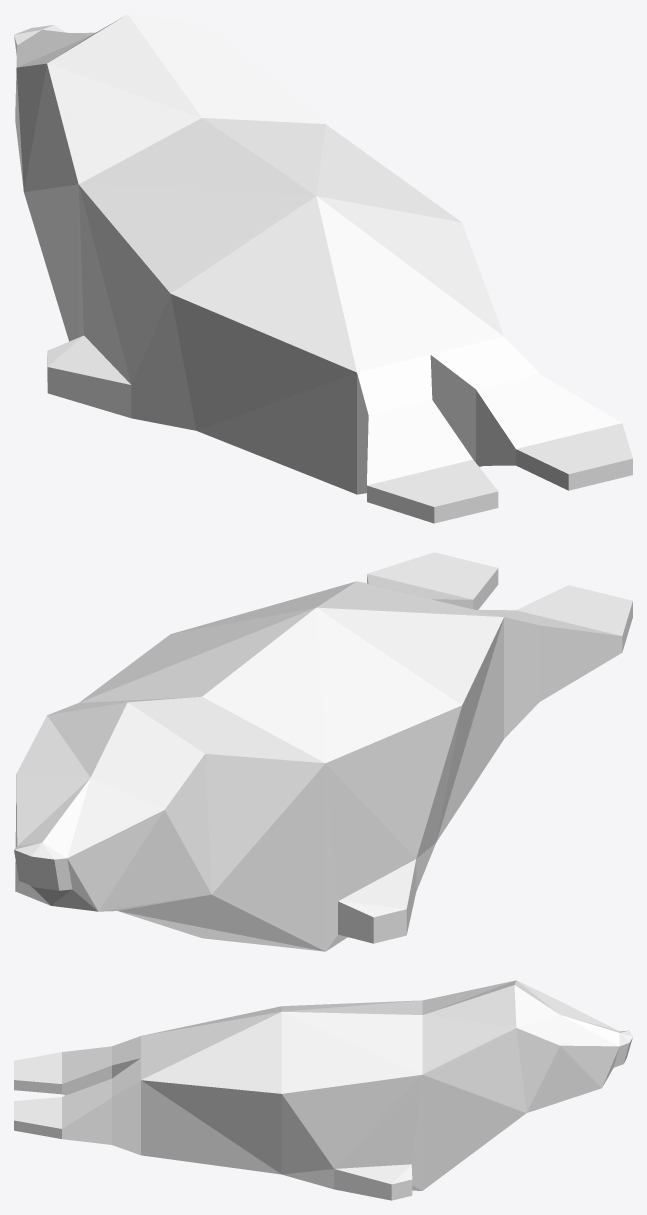
Rendered from Azarasi.obj.
3 renders of one model, top to bottom at view 1: azimuth 30°, elevation 25°; view 2: azimuth 150°, elevation 25°; view 3: azimuth 270°, elevation 25°, orthographic. The views are drawn at different scales.
Parts seen in each view (by area): view 1: Cube; view 2: Cube; view 3: Cube.
Part boxes in pixels (x1,y1,x2,y2): Cube: (14, 14, 632, 523); Cube: (14, 552, 632, 951); Cube: (14, 980, 632, 1200).
Size of the model in its own units: 0.5677 by 0.4391 by 1.37.
Materials: 1 (1 with a texture image).
